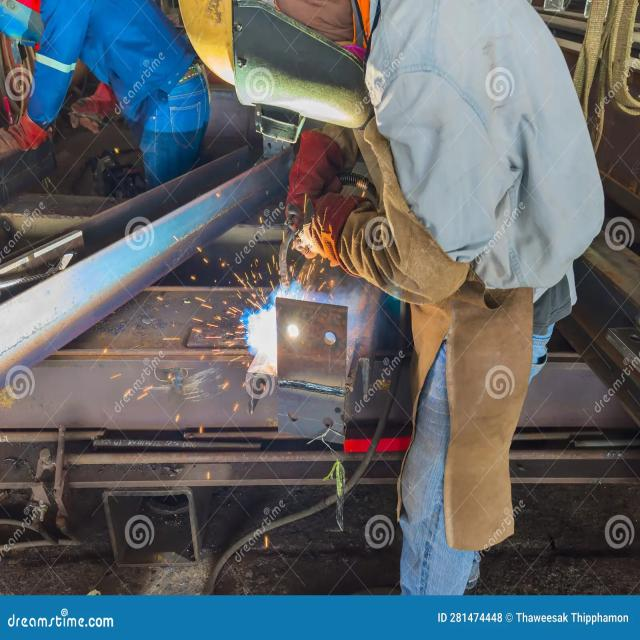welding: (252, 310, 278, 361)
